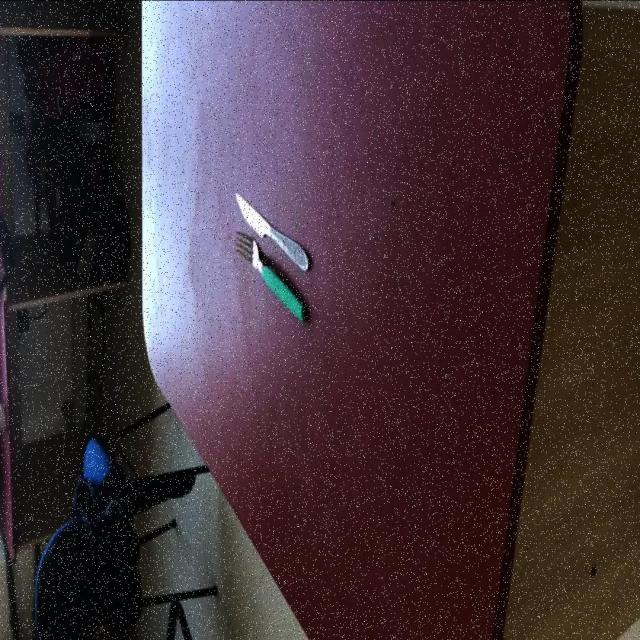Fork: (233, 232, 306, 324)
Knife: (232, 192, 310, 325), (234, 193, 309, 273)
